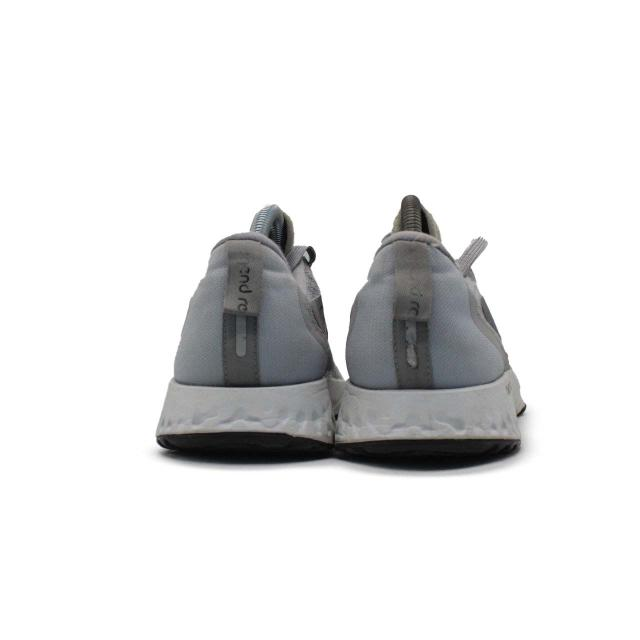heel: (346, 225, 507, 387), (172, 226, 328, 380)
midsole: (338, 383, 533, 467), (159, 382, 340, 466)
